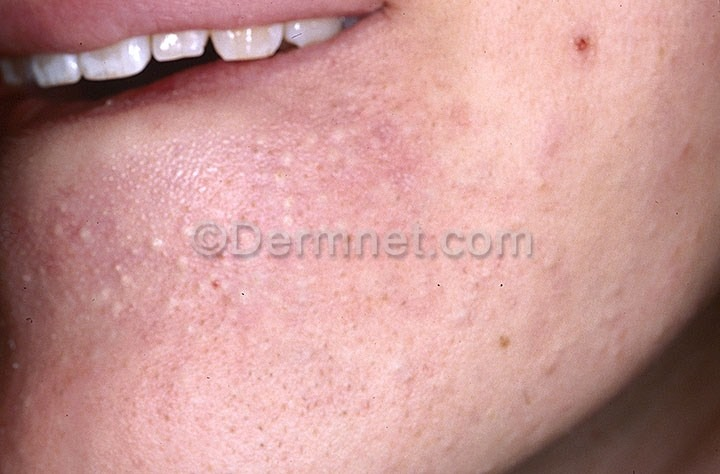Melasma: (8, 196, 192, 382), (230, 113, 447, 209), (523, 12, 614, 104)
